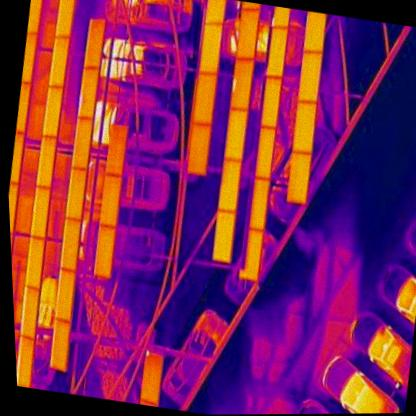Diode: (227, 54, 256, 111), (75, 65, 101, 120), (17, 286, 42, 339), (15, 335, 35, 387)
Hotspot: (138, 350, 166, 403)
Normal: (283, 149, 313, 204), (221, 107, 250, 162), (233, 7, 262, 62), (80, 16, 109, 70), (191, 71, 219, 126), (291, 100, 319, 155), (185, 121, 213, 176), (196, 21, 224, 76), (296, 50, 325, 103), (216, 158, 244, 212), (63, 167, 90, 222), (210, 209, 238, 262), (69, 117, 96, 171), (26, 184, 53, 238), (46, 34, 72, 90), (22, 235, 48, 291), (39, 83, 65, 138), (97, 174, 123, 229), (52, 268, 78, 322), (253, 125, 278, 181), (258, 75, 284, 128), (103, 124, 129, 177), (264, 25, 290, 78), (33, 135, 58, 190), (247, 178, 272, 231), (57, 219, 82, 272), (47, 319, 72, 372), (92, 224, 117, 275), (242, 229, 266, 280), (52, 0, 78, 42)
